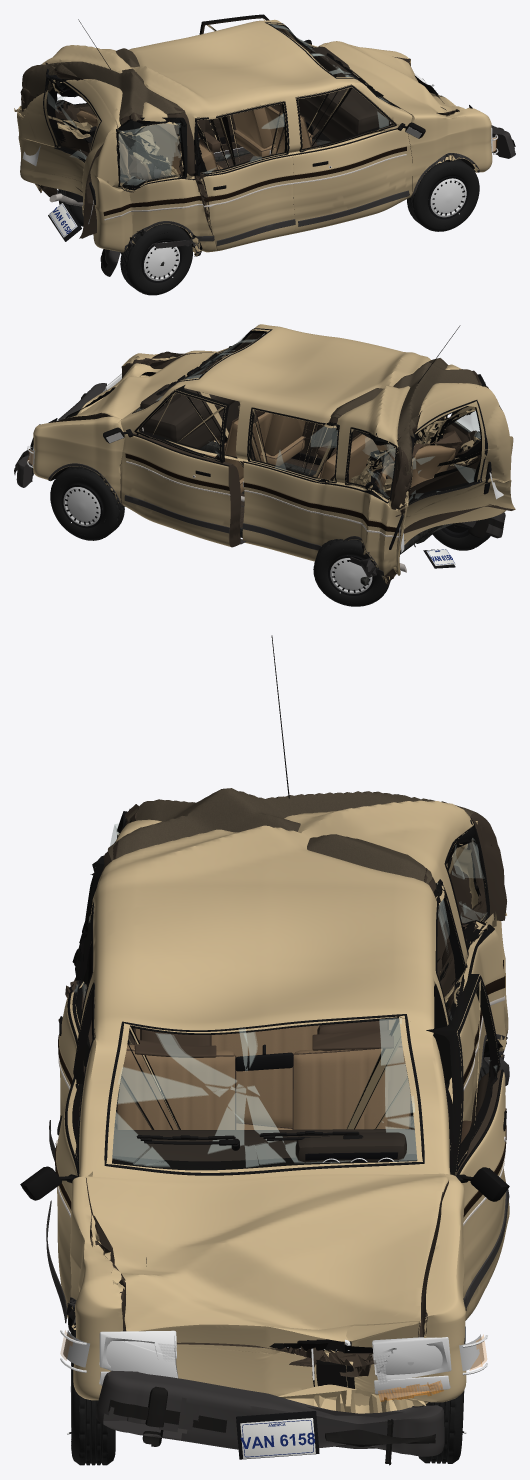
Rendered from minivan86_rear_d2.glb.
3 views of the same model, one above another, from view 1: azimuth 30°, elevation 25°; view 2: azimuth 150°, elevation 25°; view 3: azimuth 270°, elevation 25° (orthographic). The views are drawn at different scales.
Visible parts, largest first — view 1: Body, Door_FR, Interior, Door_SR, Glass, Liftgate, Hood, Wheel_FR_mesh, Wheel_RR_mesh, Trim_FR, Trim, Trim_SR (+7 smaller); view 2: Body, Interior, Door_FL, Liftgate, Trim, Wheel_FL_mesh, Hood, Wheel_RL_mesh, Trim_FL, Glass, Ends, Glass_Liftgate (+5 smaller); view 3: Body, Hood, Interior, Glass, Bumper_F, Ends, Door_FL, Trim, Trim_FL, Door_FR, Trim_FR, Wheel_FR_mesh (+5 smaller).
Part boxes in pixels (x1,y1,x2,y2): Body: [14, 19, 492, 256]; Door_FR: [292, 84, 412, 233]; Interior: [76, 46, 391, 180]; Door_SR: [195, 101, 294, 251]; Glass: [56, 22, 400, 190]; Liftgate: [22, 62, 118, 238]; Hood: [323, 41, 464, 114]; Wheel_FR_mesh: [407, 159, 479, 231]; Wheel_RR_mesh: [120, 224, 192, 295]; Trim_FR: [292, 85, 425, 226]; Trim: [41, 19, 479, 253]; Trim_SR: [195, 101, 295, 245]; Body: [33, 324, 513, 584]; Interior: [140, 360, 461, 492]; Door_FL: [120, 385, 240, 547]; Liftgate: [395, 386, 515, 533]; Trim: [48, 325, 485, 577]; Wheel_FL_mesh: [50, 466, 124, 540]; Hood: [51, 352, 213, 422]; Wheel_RL_mesh: [313, 539, 390, 606]; Trim_FL: [103, 390, 246, 544]; Glass: [132, 328, 486, 500]; Ends: [27, 373, 503, 568]; Glass_Liftgate: [408, 400, 487, 505]; Body: [58, 788, 508, 1413]; Hood: [86, 1173, 448, 1377]; Interior: [112, 1019, 416, 1162]; Glass: [85, 811, 489, 1175]; Bumper_F: [96, 1370, 444, 1465]; Ends: [60, 1330, 487, 1459]; Door_FL: [426, 974, 509, 1320]; Trim: [67, 635, 509, 1332]; Trim_FL: [454, 975, 509, 1308]; Door_FR: [56, 981, 95, 1318]; Trim_FR: [20, 982, 94, 1323]; Wheel_FR_mesh: [67, 1321, 115, 1465].
Bounding box in the file's own units: 4.17 × 2.34 × 2.04.
Materials: 33 (5 with a texture image).
